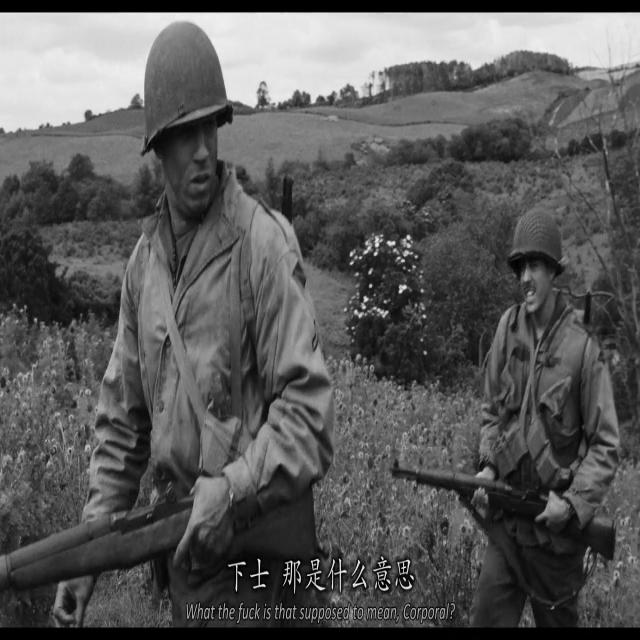Rifle: (2, 480, 326, 609), (388, 455, 626, 563)
